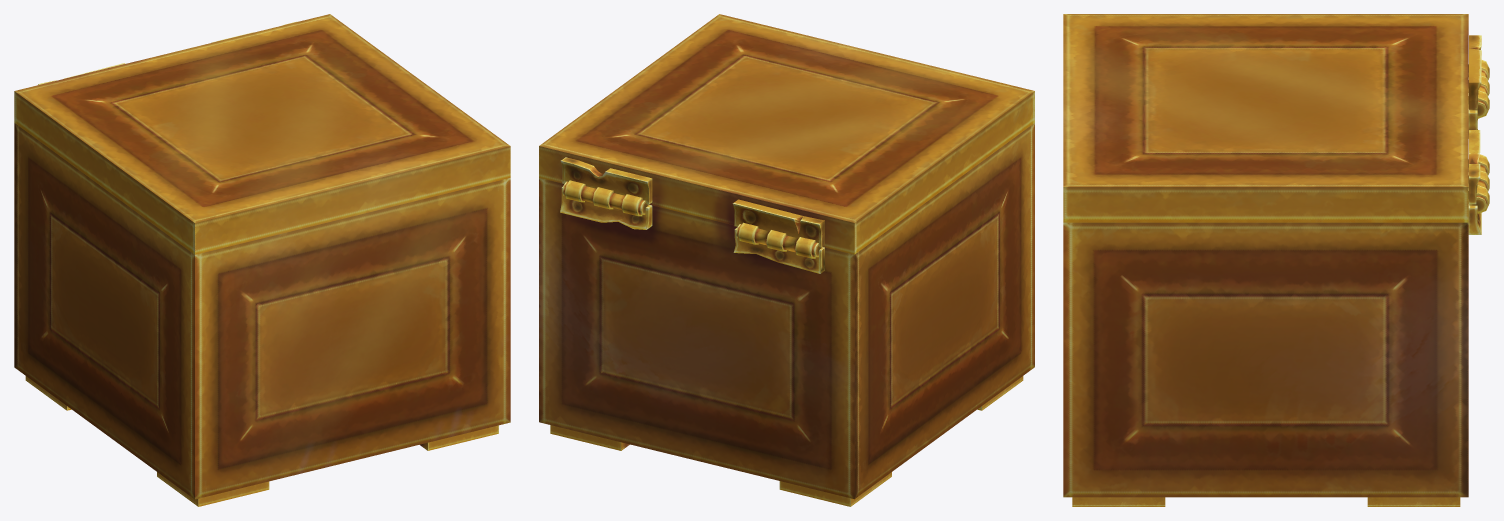
Rendered from 138_a_gold_coffer_lp.fbx.
3 renders of one model, left to right at view 1: azimuth 30°, elevation 25°; view 2: azimuth 150°, elevation 25°; view 3: azimuth 270°, elevation 25°, orthographic. The views are drawn at different scales.
Parts seen in each view (by area): view 1: 138_a_gold_coffer_01, 138_a_gold_coffer_02; view 2: 138_a_gold_coffer_01, 138_a_gold_coffer_02; view 3: 138_a_gold_coffer_01, 138_a_gold_coffer_02.
Boxes of the visible parts, box(x1,y1,x2,y2) form: 138_a_gold_coffer_01: box(14, 123, 510, 506); 138_a_gold_coffer_02: box(14, 14, 510, 254); 138_a_gold_coffer_01: box(539, 123, 1034, 506); 138_a_gold_coffer_02: box(539, 14, 1034, 258); 138_a_gold_coffer_01: box(1063, 77, 1481, 506); 138_a_gold_coffer_02: box(1063, 14, 1489, 222).
Size of the model in its own units: 20.26 by 17.7 by 21.1.
